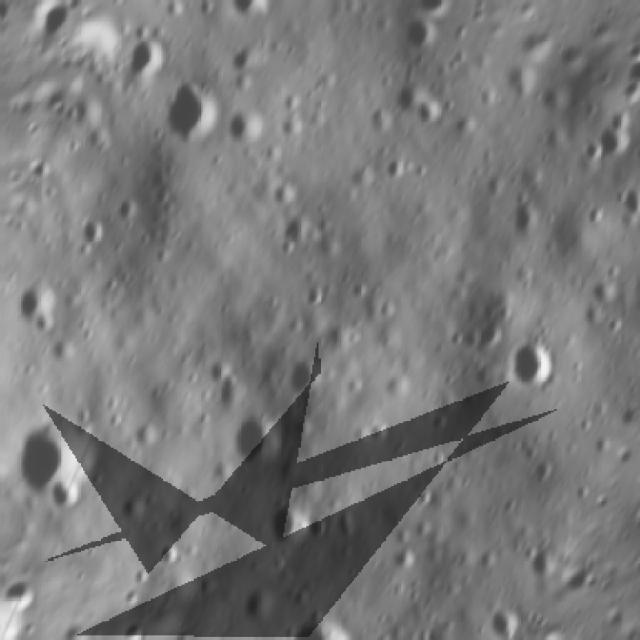crater: (0, 398, 108, 520), (134, 60, 234, 162), (554, 94, 640, 183), (486, 324, 568, 414), (372, 65, 458, 144), (101, 11, 176, 94), (218, 403, 294, 482), (0, 266, 71, 346), (212, 94, 279, 164), (267, 600, 376, 640), (246, 497, 312, 561), (265, 354, 329, 418), (382, 6, 446, 66), (597, 172, 640, 246), (474, 595, 532, 640), (513, 540, 561, 588), (618, 260, 640, 343), (311, 0, 377, 20), (248, 0, 326, 8)
